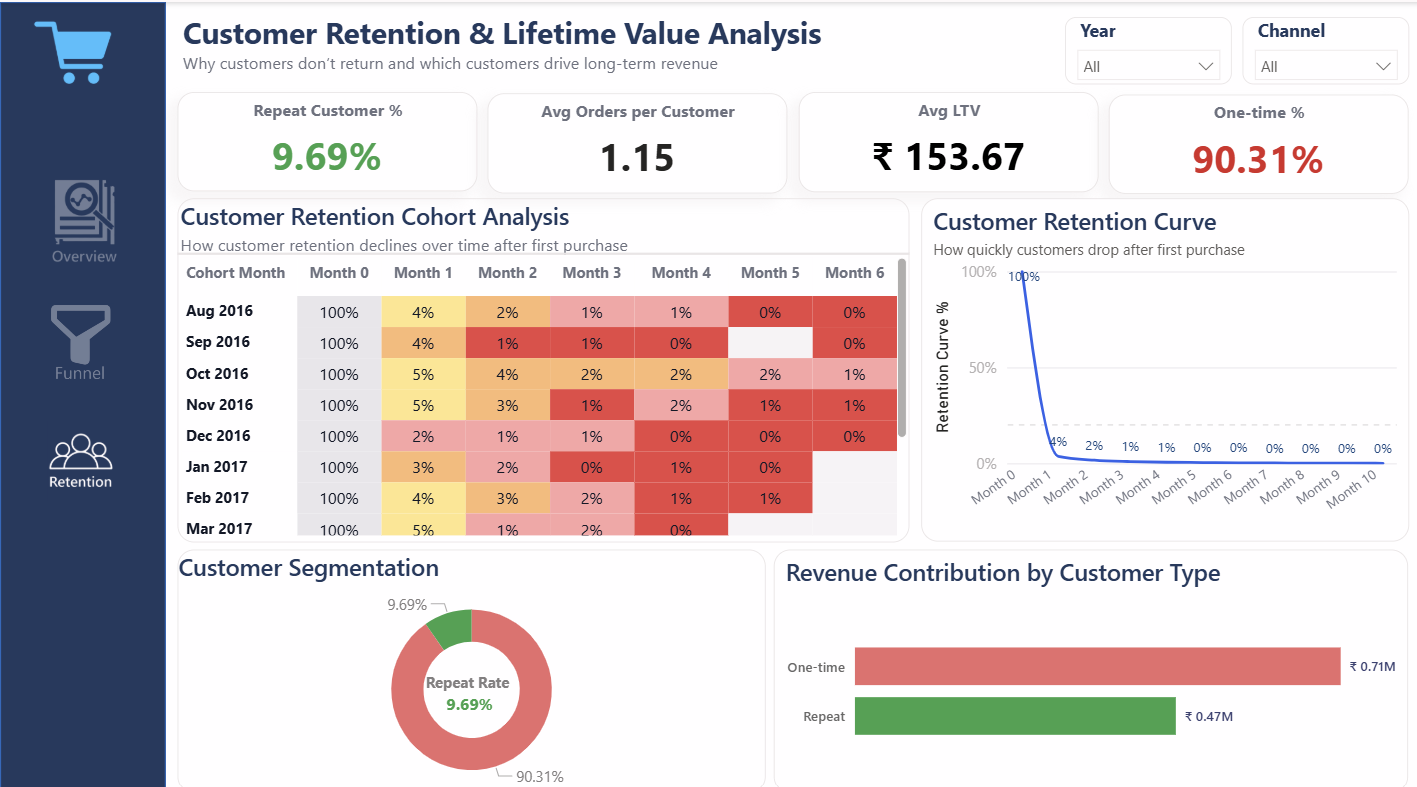

Layout of this report page (visuals, bound fields, positions):
{"tool":"powerbi","page":{"name":"Retention Analysis","canvas":[1280,720],"ordinal":2},"visuals":[{"type":"shape","box":[0,0,149.6,710.8],"z":0,"group":"g2"},{"type":"cardVisual","title":"Repeat Customer %","fields":{"Data":["Dax Measure3.Repeat Customer %"]},"box":[160,80.7,270,89.3],"z":0},{"type":"pivotTable","title":"Customer Retention Cohort Analysis","fields":{"Columns":["final_orders.Month Label"],"Rows":["Customer Cohort.Cohort Month"],"Values":["Dax Measure3.Retention %"]},"box":[160,177,660,310.6],"z":0,"group":"g3"},{"type":"cardVisual","title":"Avg Orders per Customer","fields":{"Data":["Dax Measure3.Avg Orders per Customer"]},"box":[440,81.9,270,90.5],"z":1000},{"type":"shape","box":[160,221.5,660,12.2],"z":1000,"group":"g3"},{"type":"cardVisual","title":"Avg LTV","fields":{"Data":["Dax Measure3.Avg LTV"]},"box":[720,81.5,270,90.6],"z":2000},{"type":"cardVisual","title":"One-time %","fields":{"Data":["Dax Measure3.One-time %"]},"box":[1000,83.2,270,89.3],"z":3000},{"type":"slicer","title":"Year","fields":{"Values":["final_orders.date.Variation.Date Hierarchy.Year","final_orders.date.Variation.Date Hierarchy.Quarter","final_orders.date.Variation.Date Hierarchy.Month","final_orders.date.Variation.Date Hierarchy.Day"]},"box":[959.9,13.5,150.4,61.1],"z":4000},{"type":"slicer","fields":{"Values":["final_orders.channel"]},"box":[1120.1,13.5,150.4,61.1],"z":5000},{"type":"textbox","box":[160.2,4.9,734.9,70.9],"z":6000},{"type":"group","id":"g1","title":"Group 1","box":[160,177,660,310.6],"z":7000},{"type":"lineChart","title":"Customer Retention Curve","fields":{"Category":["final_orders.Month Label"],"Y":["Dax Measure3.Retention Curve %"]},"box":[830.3,177,440.2,309.4],"z":8000},{"type":"donutChart","title":"Customer Segmentation","fields":{"Category":["Customer Summary.Customer Type"],"Y":["Customer Summary.Customer Count"]},"box":[160,494,530.7,220.1],"z":9000},{"type":"clusteredBarChart","title":"Revenue Contribution by Customer Type","fields":{"Category":["Customer Summary.Customer Type"],"Y":["Customer Summary.Total Revenue2"]},"box":[698.2,494,572.3,220.1],"z":10000},{"type":"textbox","box":[377.9,599.2,91.7,47.7],"z":11000},{"type":"group","id":"g2","title":"Group 3","box":[0,0,149.6,710.8],"z":12000},{"type":"group","id":"g3","title":"Group 2","box":[160,177,660,310.6],"z":12501,"group":"g1"},{"type":"actionButton","box":[42.5,271.2,60,72.5],"z":13000},{"type":"actionButton","box":[45,156.2,60,81.2],"z":14000},{"type":"actionButton","box":[42.5,377.5,60,72.5],"z":15000},{"type":"actionButton","box":[30,12,71.8,64.1],"z":16000}]}

Visuals, with their boxes on the page's 1280x720 design canvas (x1, y1, x2, y2). These are canvas units, not pixel positions in the 1417x787 screenshot, which may show the page scaled, cropped or inside an application window:
shape: box(0, 0, 150, 711)
"Repeat Customer %" cardVisual: box(160, 81, 430, 170)
"Customer Retention Cohort Analysis" pivotTable: box(160, 177, 820, 488)
"Avg Orders per Customer" cardVisual: box(440, 82, 710, 172)
shape: box(160, 222, 820, 234)
"Avg LTV" cardVisual: box(720, 82, 990, 172)
"One-time %" cardVisual: box(1000, 83, 1270, 172)
"Year" slicer: box(960, 14, 1110, 75)
slicer - final_orders.channel: box(1120, 14, 1270, 75)
textbox: box(160, 5, 895, 76)
"Group 1" group: box(160, 177, 820, 488)
"Customer Retention Curve" lineChart: box(830, 177, 1270, 486)
"Customer Segmentation" donutChart: box(160, 494, 691, 714)
"Revenue Contribution by Customer Type" clusteredBarChart: box(698, 494, 1270, 714)
textbox: box(378, 599, 470, 647)
"Group 3" group: box(0, 0, 150, 711)
"Group 2" group: box(160, 177, 820, 488)
actionButton: box(42, 271, 102, 344)
actionButton: box(45, 156, 105, 237)
actionButton: box(42, 378, 102, 450)
actionButton: box(30, 12, 102, 76)
